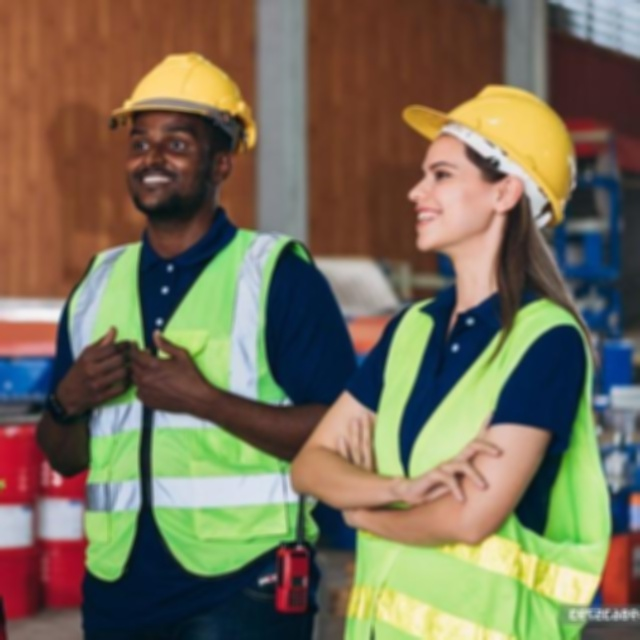Con_Casco: (399, 82, 577, 253), (112, 51, 254, 217)
Con_Chaleco: (345, 296, 611, 640), (66, 227, 313, 581)
